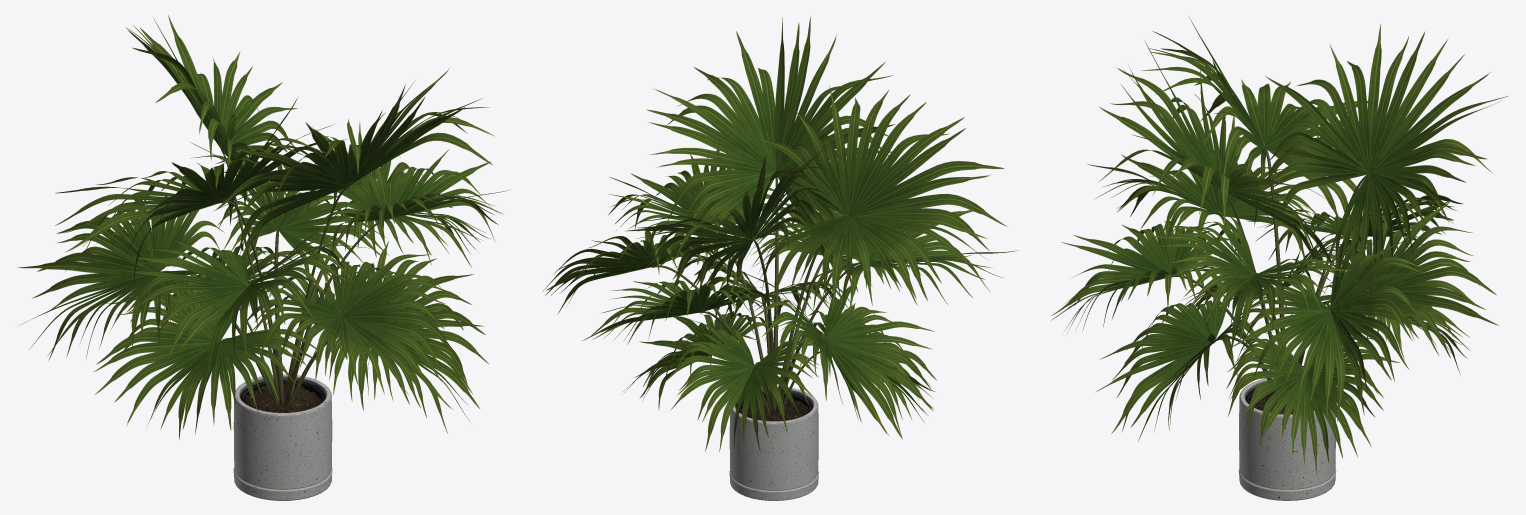
The picture shows the model from 3 angles, left to right: view 1: azimuth 30°, elevation 25°; view 2: azimuth 150°, elevation 25°; view 3: azimuth 270°, elevation 25°; orthographic projection. The views are drawn at different scales.
Visible parts, largest first — view 1: LIVISTONA_CHINENSIS, PLANTER_TERRA_BASE; view 2: LIVISTONA_CHINENSIS, PLANTER_TERRA_BASE; view 3: LIVISTONA_CHINENSIS, PLANTER_TERRA_BASE.
Part boxes in pixels (x1=…): LIVISTONA_CHINENSIS: x1=18, y1=15, x2=510, y2=439; PLANTER_TERRA_BASE: x1=233, y1=374, x2=332, y2=500; LIVISTONA_CHINENSIS: x1=542, y1=16, x2=1017, y2=452; PLANTER_TERRA_BASE: x1=729, y1=386, x2=818, y2=500; LIVISTONA_CHINENSIS: x1=1051, y1=17, x2=1509, y2=475; PLANTER_TERRA_BASE: x1=1238, y1=377, x2=1336, y2=500.
Bounding box in the file's own units: 1.6 × 1.53 × 1.45.
2 materials, 2 textured.
